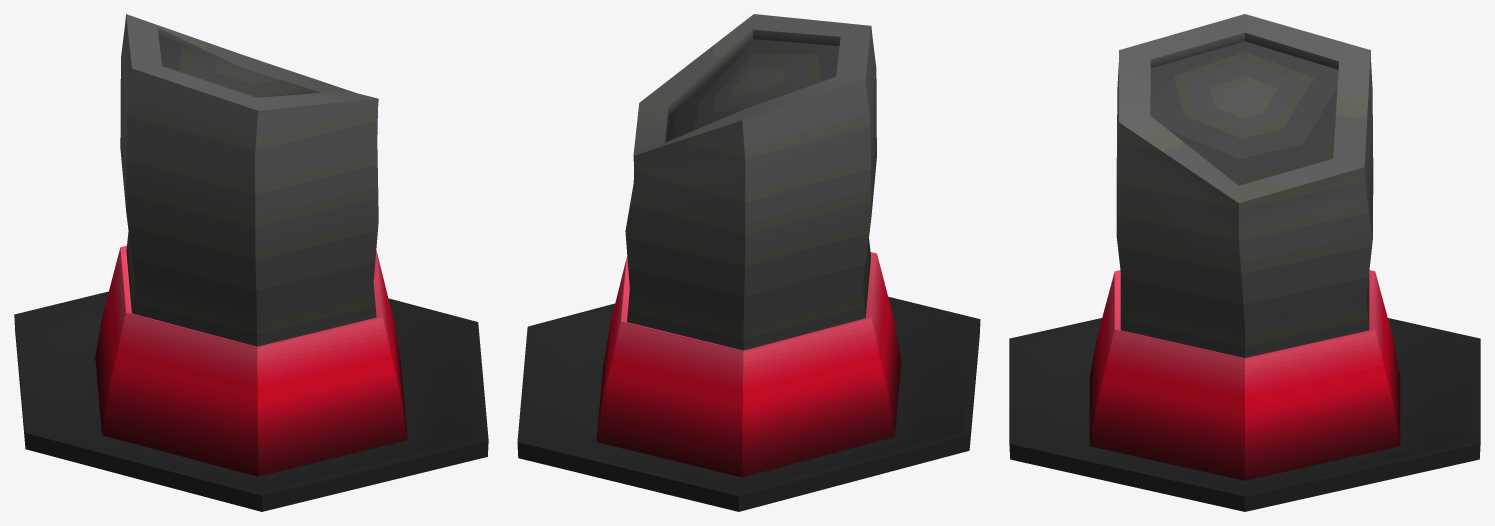
Rendered from SM_MagicianHat.fbx.
3 renders of one model, left to right at view 1: azimuth 30°, elevation 25°; view 2: azimuth 150°, elevation 25°; view 3: azimuth 270°, elevation 25°, orthographic. The views are drawn at different scales.
Visible parts, largest first — view 1: Hat; view 2: Hat; view 3: Hat.
Boxes of the visible parts, x1,y1,x2,y2 form: Hat: (14, 14, 488, 511); Hat: (517, 14, 980, 511); Hat: (1009, 14, 1480, 511).
Size of the model in its own units: 40.41 by 32.08 by 38.22.
1 material, 1 textured.
